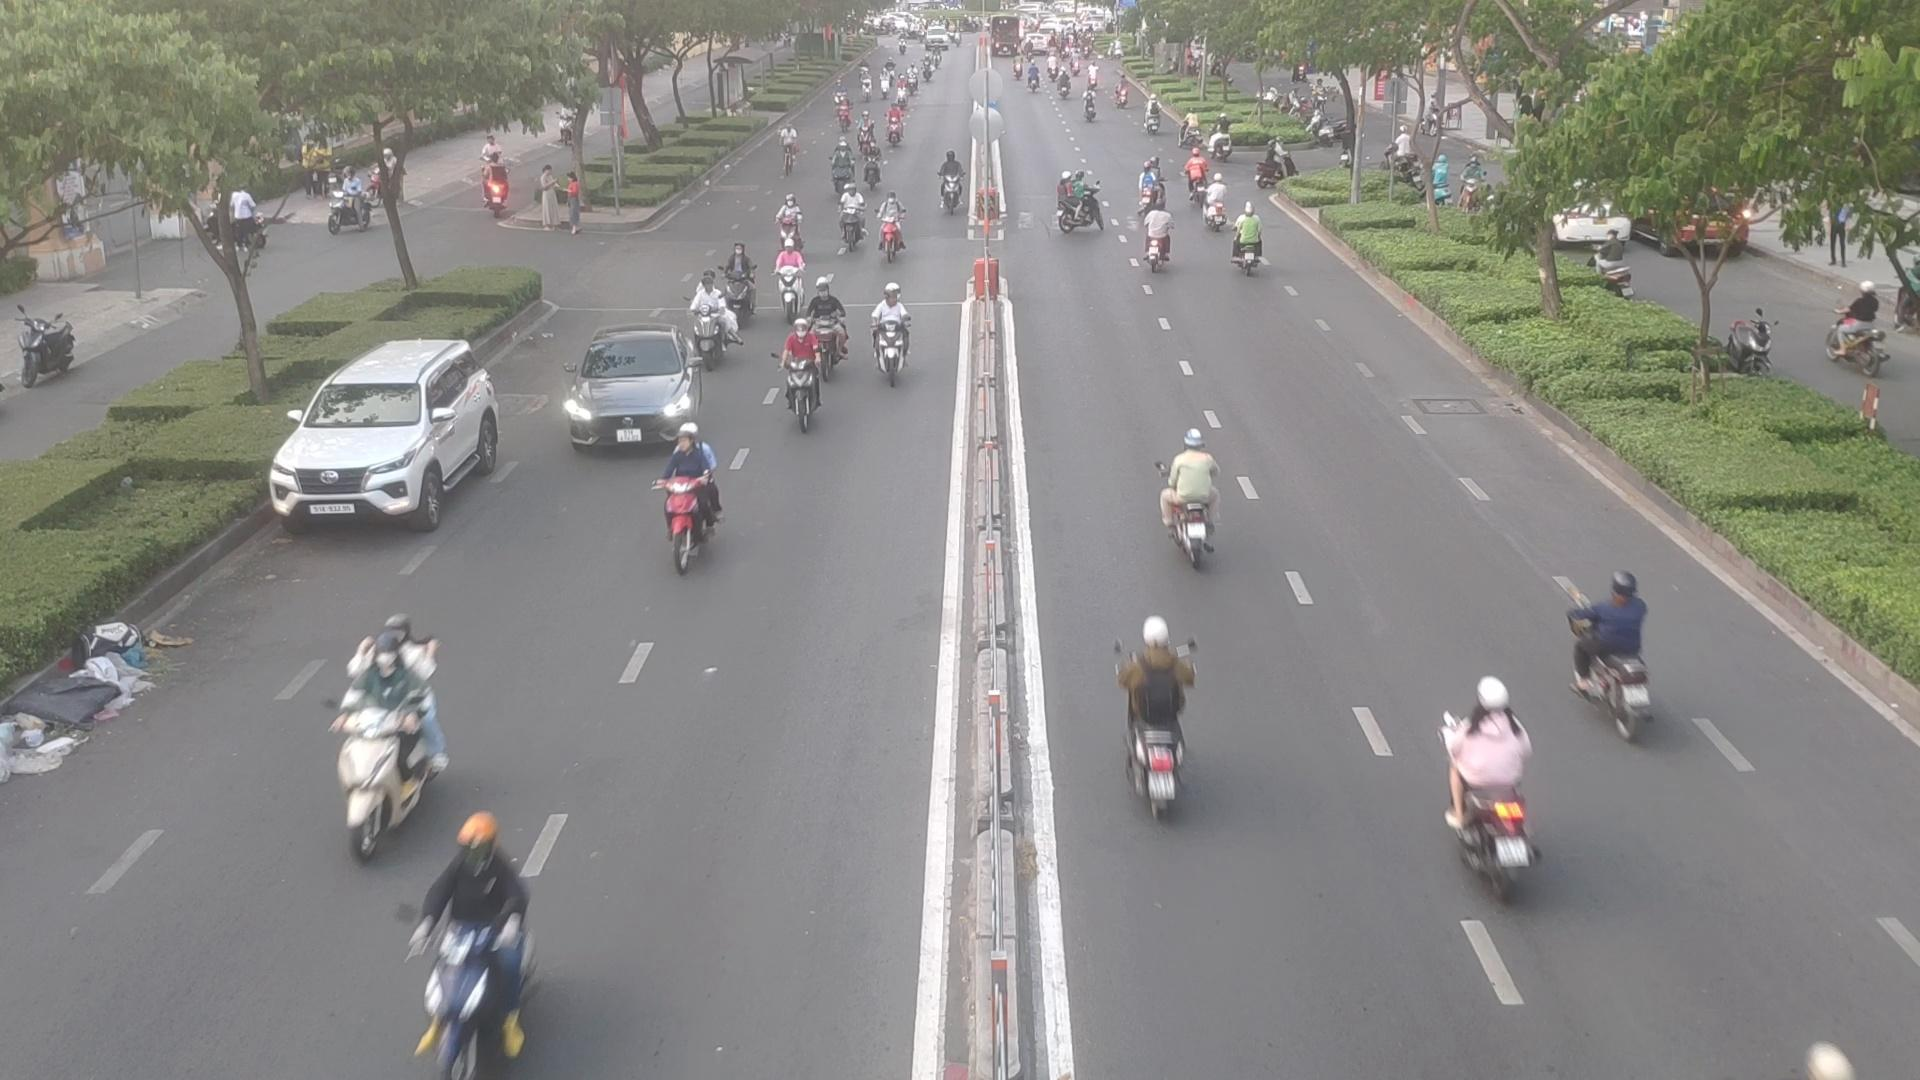car: (276, 340, 514, 530), (560, 324, 704, 448)
motorbike: (400, 822, 533, 1077), (326, 622, 452, 847), (1429, 669, 1555, 887), (1108, 616, 1205, 829), (1575, 572, 1672, 736), (644, 418, 731, 564), (1151, 439, 1234, 562), (779, 305, 837, 433), (786, 301, 849, 381), (865, 287, 916, 384), (688, 284, 744, 363), (1048, 171, 1108, 239), (716, 243, 762, 315), (1228, 211, 1273, 277), (1138, 206, 1178, 272), (777, 244, 818, 302), (775, 193, 814, 251), (938, 154, 969, 214), (874, 215, 906, 265), (837, 203, 866, 256), (1203, 171, 1229, 228), (1135, 160, 1168, 204), (1182, 152, 1207, 200), (829, 141, 851, 193), (858, 142, 885, 183), (880, 108, 907, 146), (1212, 127, 1242, 160), (1176, 116, 1205, 149), (856, 109, 874, 156)
